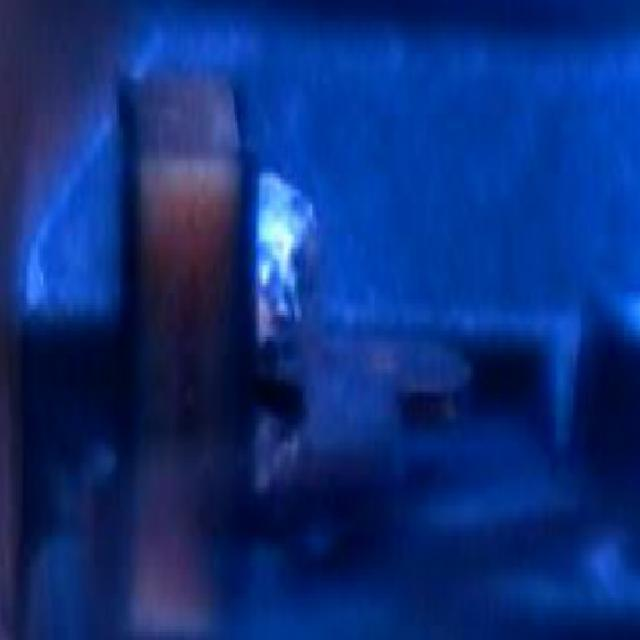Component: (89, 56, 264, 428)
Solder: (241, 156, 343, 404)
